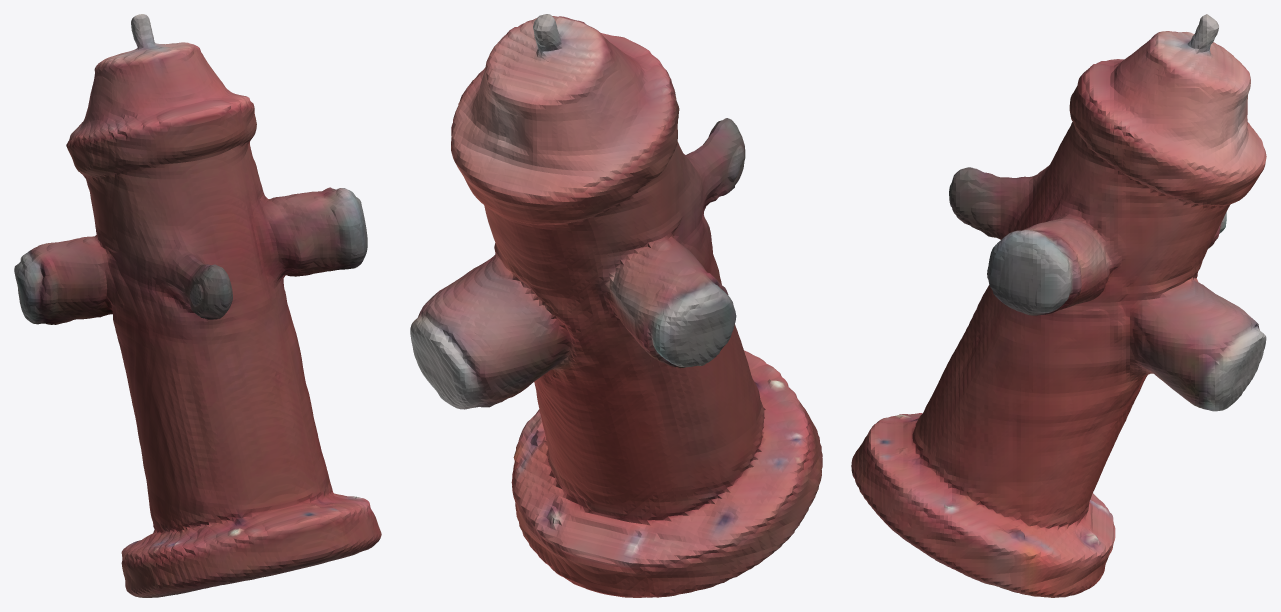
Rendered from hydrant_triposr_raw.glb.
3 renders of one model, left to right at view 1: azimuth 30°, elevation 25°; view 2: azimuth 150°, elevation 25°; view 3: azimuth 270°, elevation 25°, orthographic. The views are drawn at different scales.
Visible parts, largest first — view 1: world; view 2: world; view 3: world.
Part boxes in pixels (box(x1,y1,x2,y2)): world: box(14, 14, 381, 597); world: box(410, 14, 822, 597); world: box(851, 14, 1266, 597).
Size of the model in its own units: 0.5848 by 1.03 by 0.6997.
